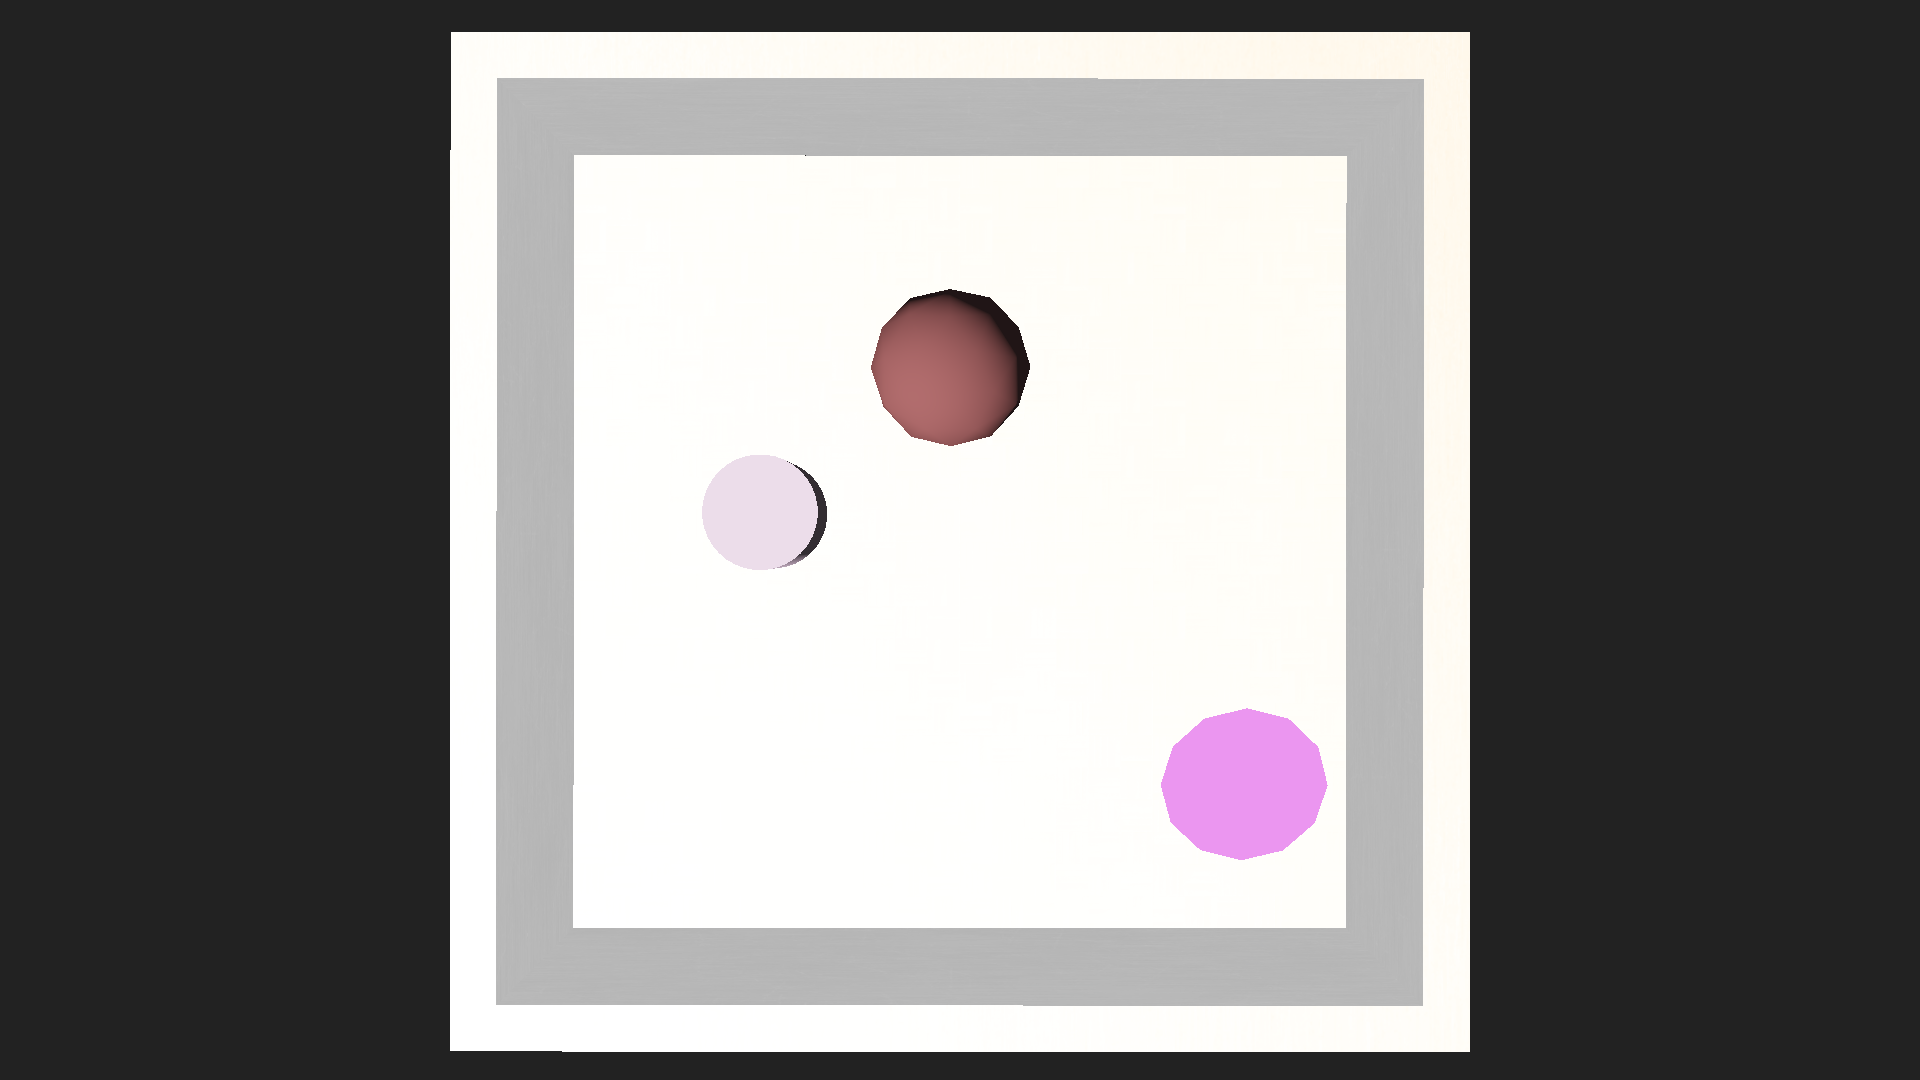cone: (702, 454, 827, 568)
cylinder: (1153, 650, 1327, 858)
sphere: (870, 287, 1030, 447)
